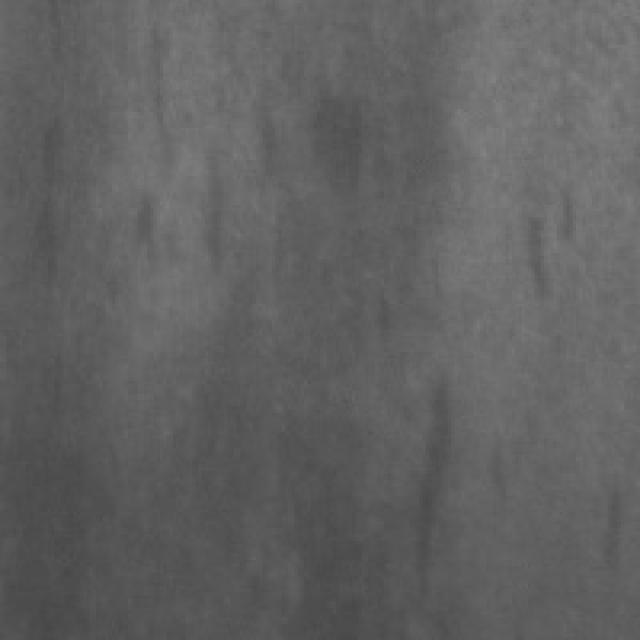inclusion: (112, 16, 195, 282), (387, 362, 464, 608), (19, 93, 86, 323), (509, 189, 560, 323)
